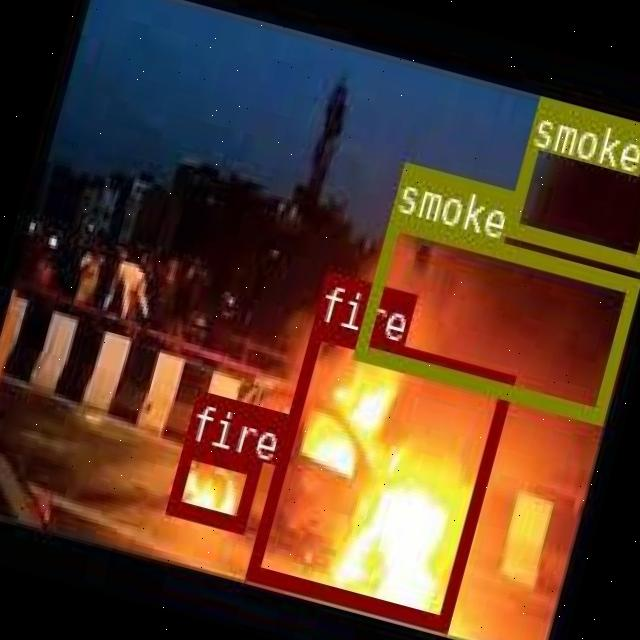fire: (245, 320, 513, 630), (165, 440, 258, 528)
smoke: (351, 210, 639, 422), (503, 95, 640, 269)
